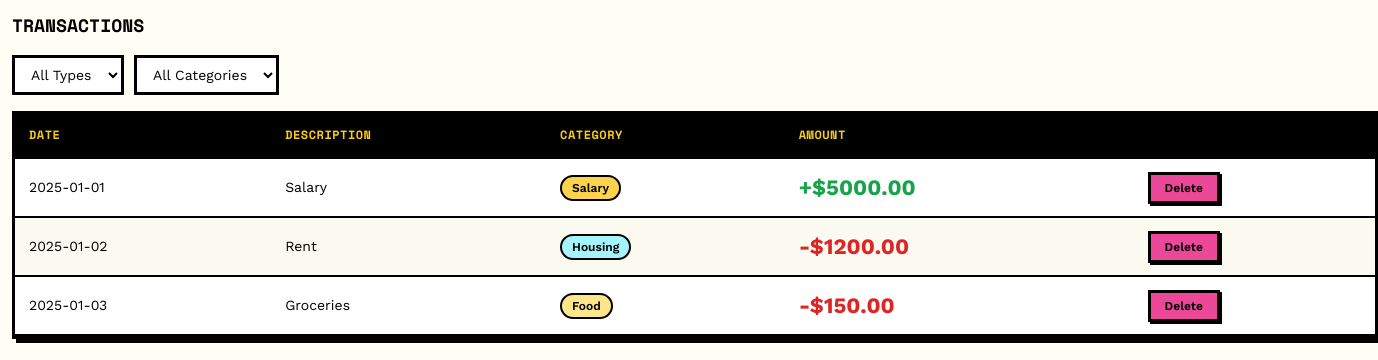
Test case: TransactionList › filters by category
Select "food" in the 2nd dropdown showing "All Categories" at (206, 75), box [134,55,279,95]
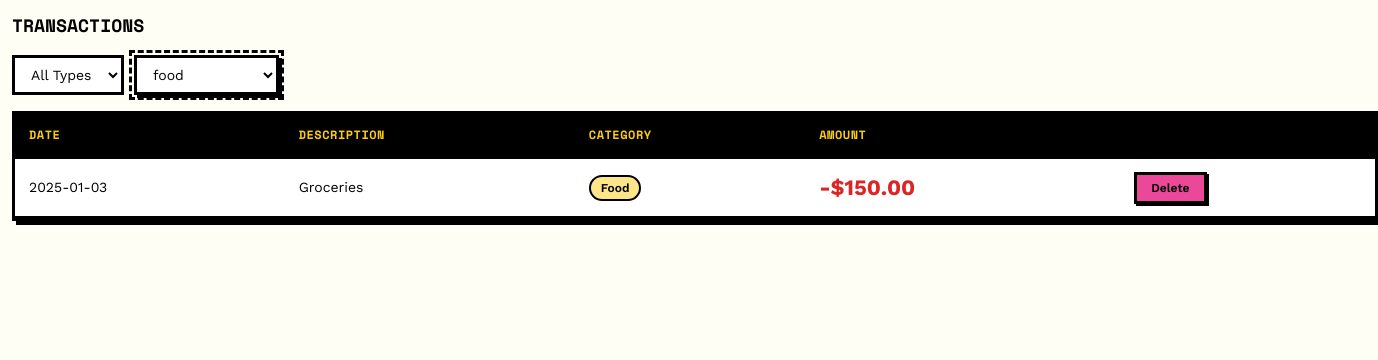
expect the text "Groceries" is shown: met, box [285,159,575,218]
expect the text "Rent" is gone: met
